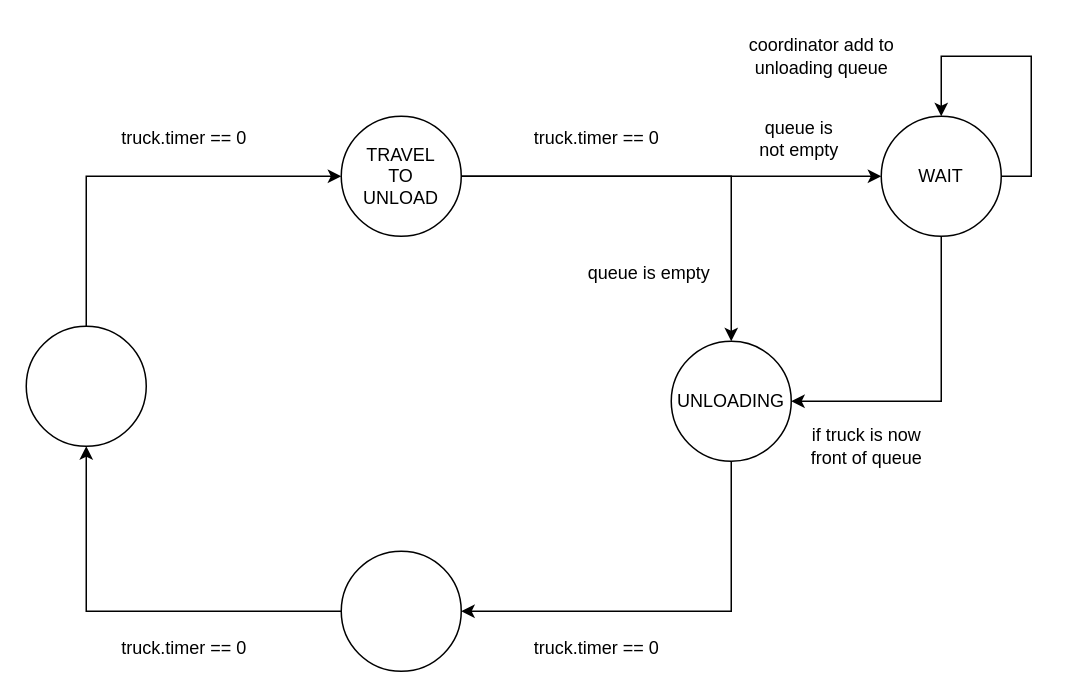
The diagram is 1070 pixels wide and 698 high, and some of its shapes have lost their labels. Here are the shapes that lost their labels. From the top down, the box of each, then its label:
(25, 325, 146, 446): MINING
(340, 550, 461, 671): TRAVEL TO MINE
